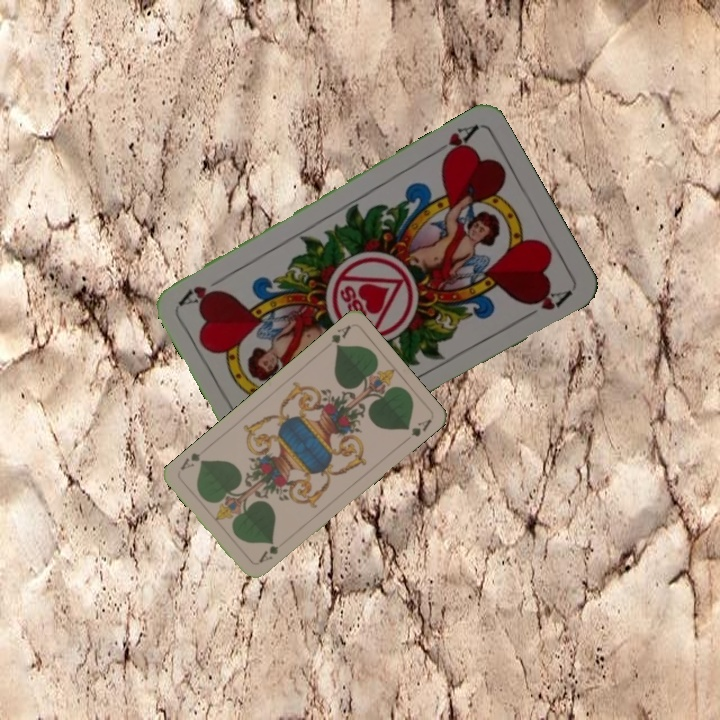GA: (254, 538, 288, 566), (327, 321, 353, 351)
HA: (427, 120, 481, 163)
